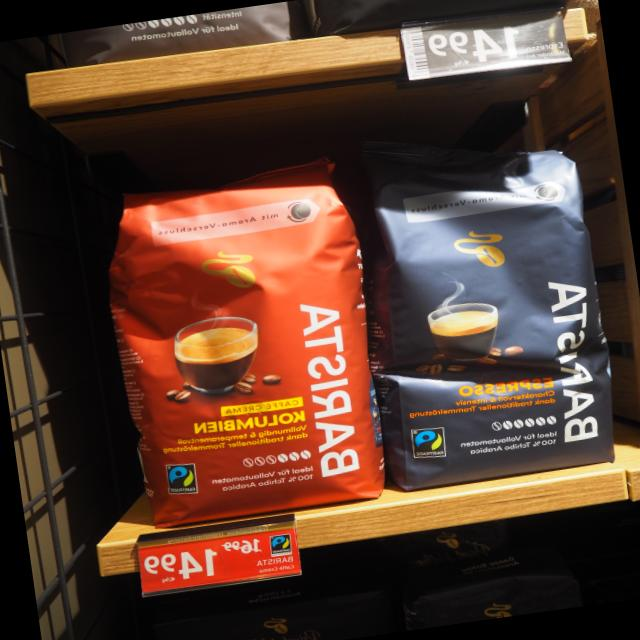Barista Espresso: (345, 139, 619, 497)
Barista Kolumbien: (92, 153, 394, 537)
